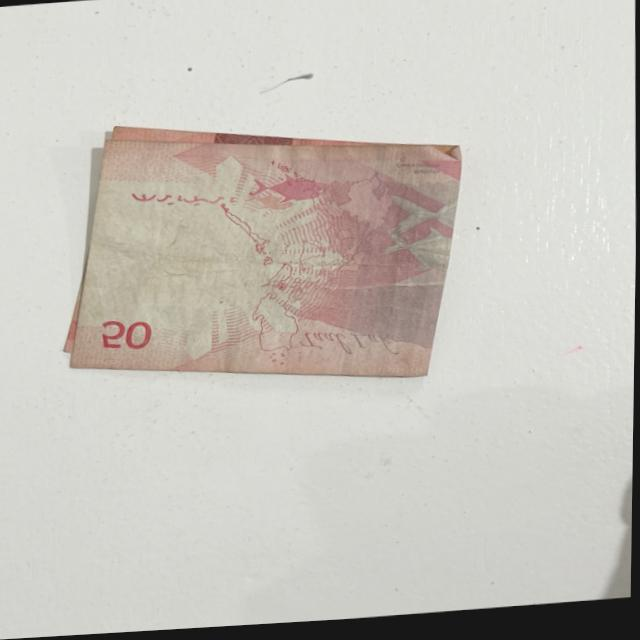security_thread: (339, 150, 398, 378)
see_through_mark: (127, 178, 253, 220)
